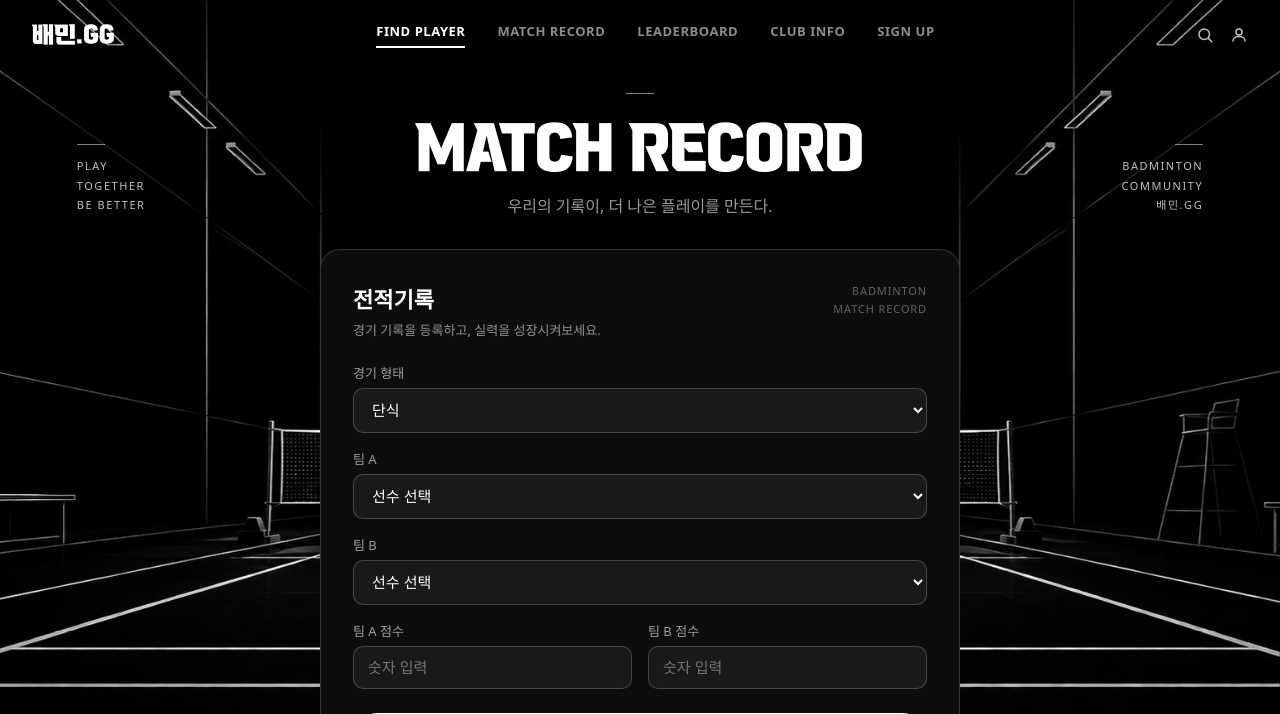
recording a singles match updates matches.json and both members ratings
Select "김태준" in the dropdown named "팀 A 선수 1" at (640, 496), box x1=353 y1=474 x2=927 y2=519
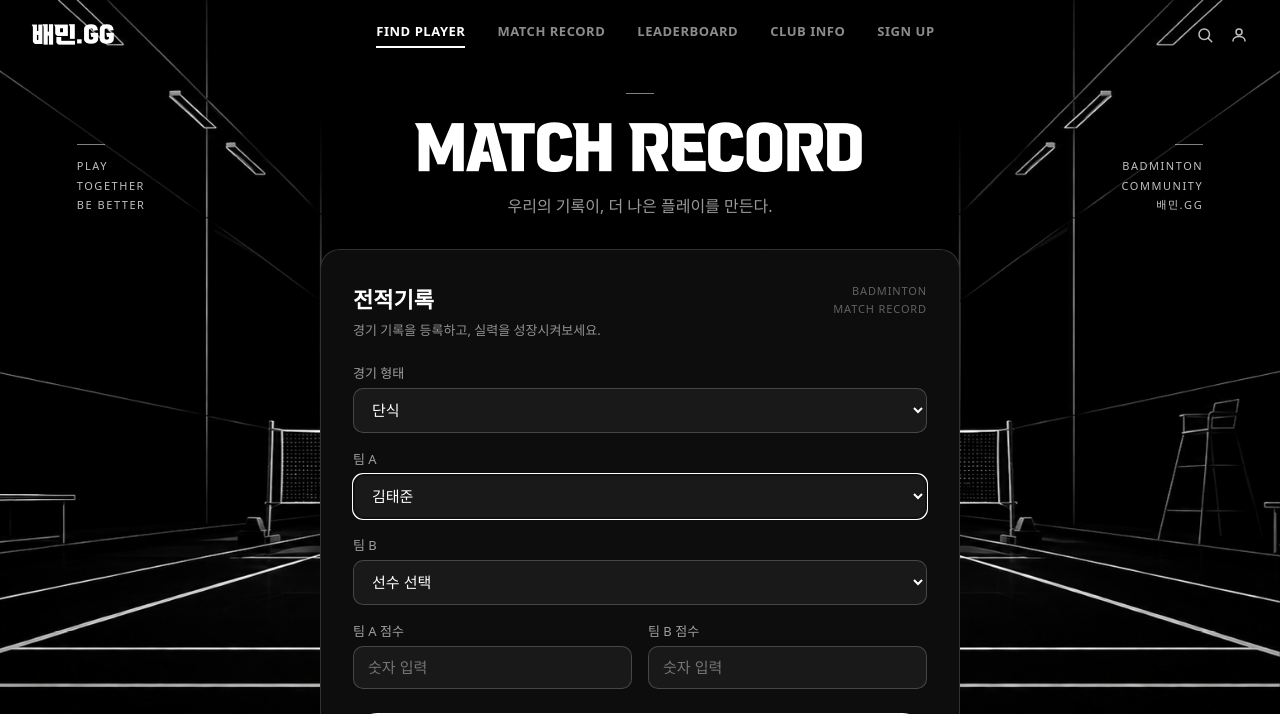
Select "박서연" in the dropdown named "팀 B 선수 1" at (640, 582), box x1=353 y1=560 x2=927 y2=605
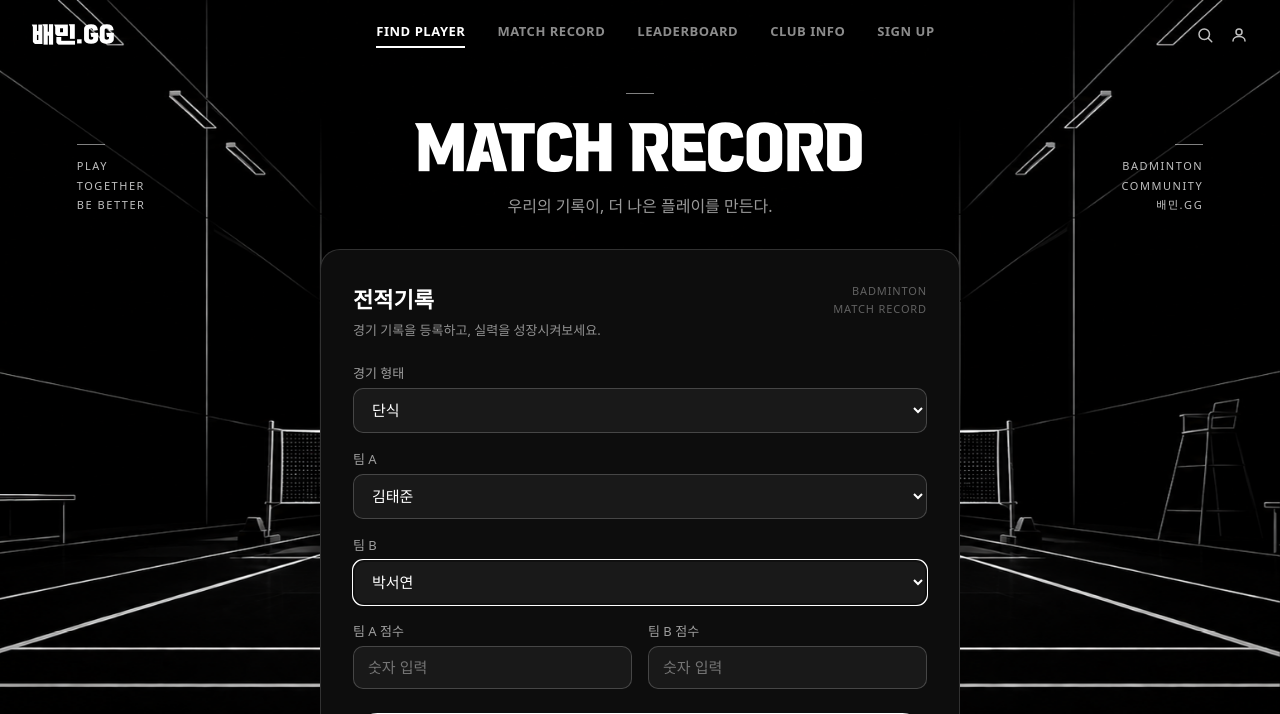
Type "21" into the number field labelled "팀 A 점수".
click(492, 668); type("21")  # box x1=353 y1=646 x2=632 y2=689
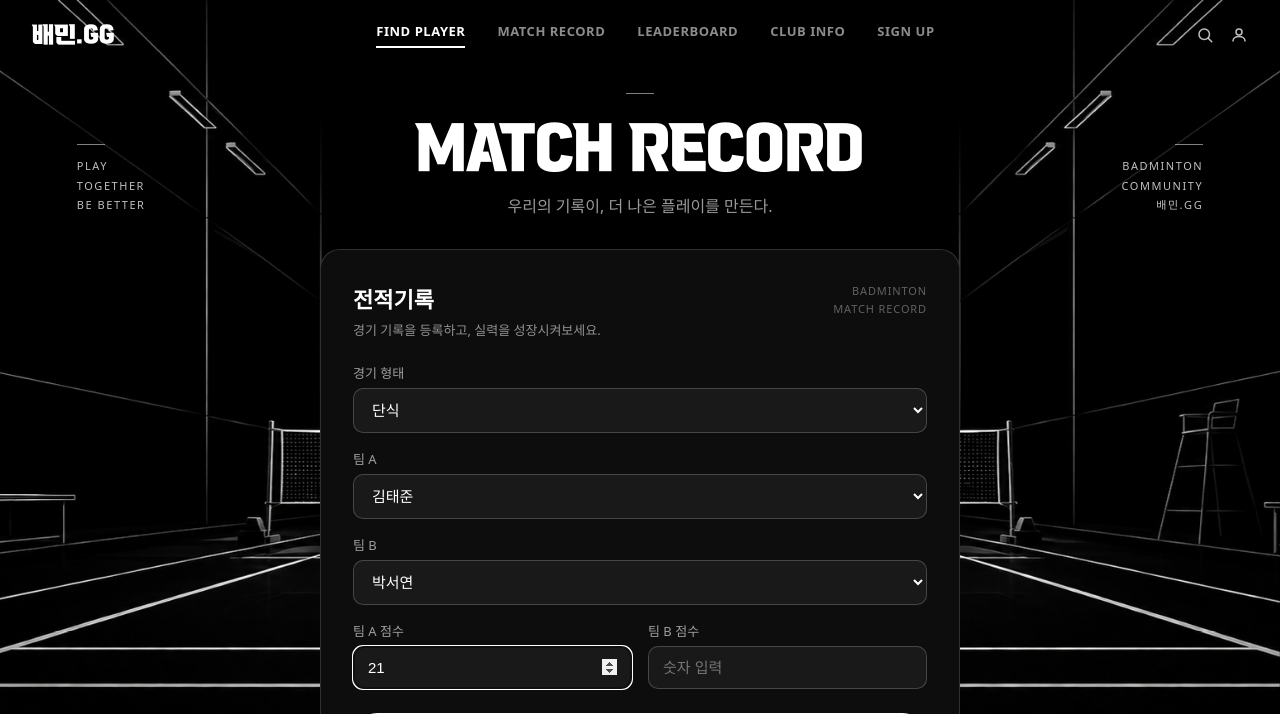
Type "15" into the number field labelled "팀 B 점수".
click(788, 668); type("15")  # box x1=648 y1=646 x2=927 y2=689
(page scrolled)
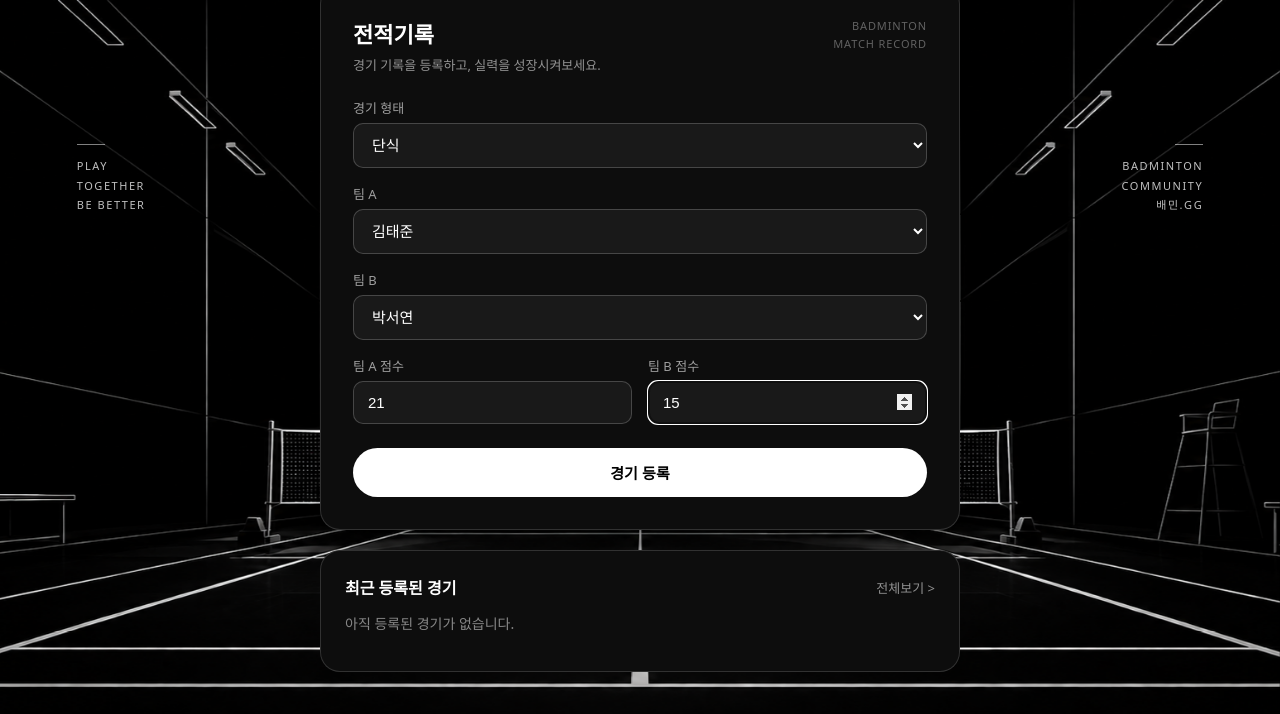
Click the button "경기 등록".
click(640, 472)  # box x1=353 y1=448 x2=927 y2=497
(page scrolled)
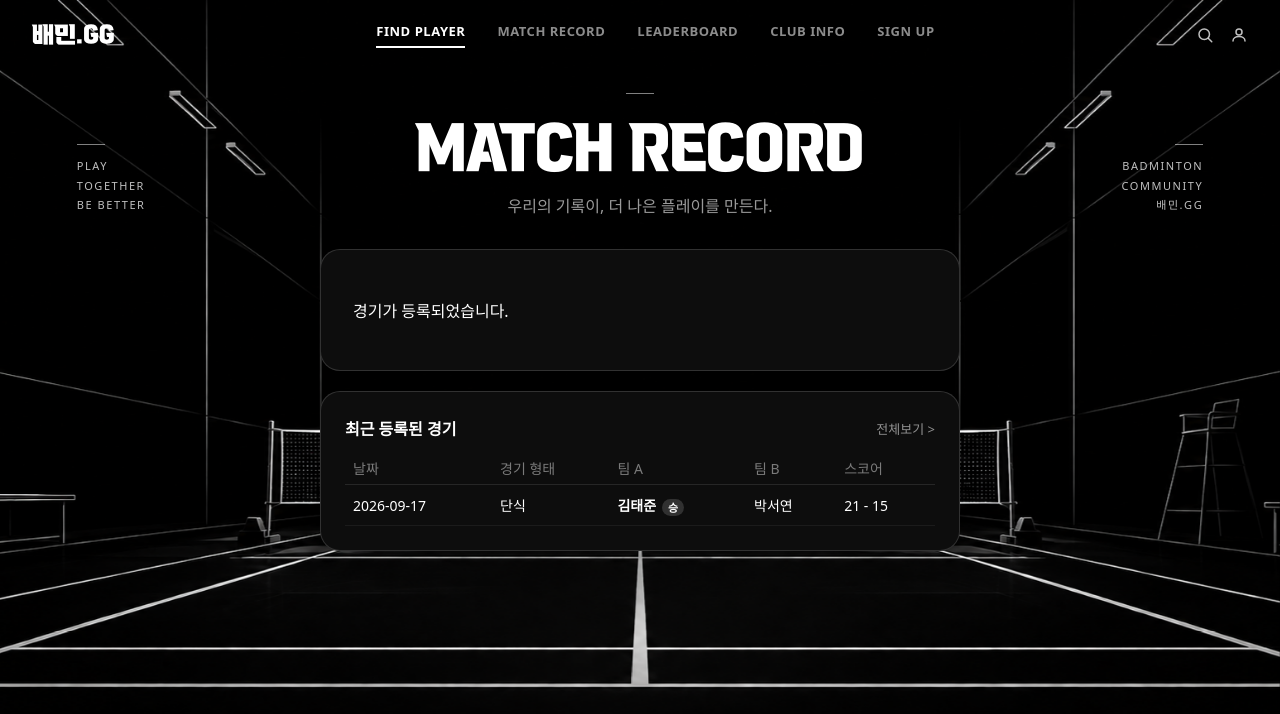
expect the text "경기가 등록되었습니다." is shown: met, box x1=353 y1=300 x2=509 y2=322
expect the text "21 - 15" is shown: met, box x1=836 y1=484 x2=935 y2=526
